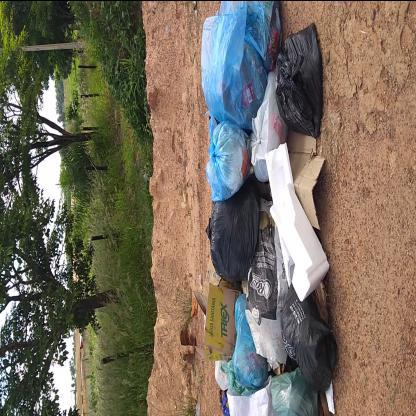lixo: (202, 0, 332, 411)
